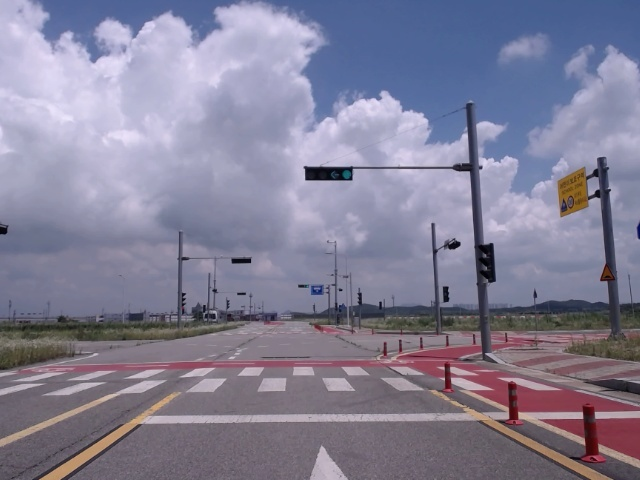all_green_4: (307, 168, 349, 183)
